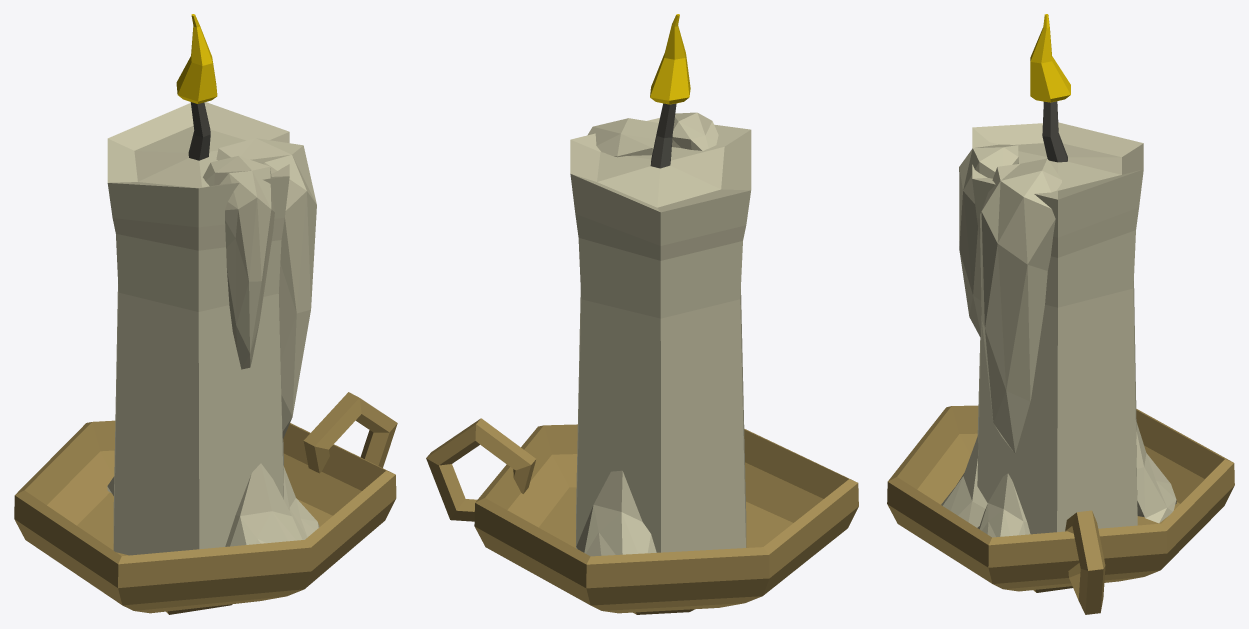
The model's file is candle_2_lit.fbx.
3 renders of one model, left to right at view 1: azimuth 30°, elevation 25°; view 2: azimuth 150°, elevation 25°; view 3: azimuth 270°, elevation 25°, orthographic. The views are drawn at different scales.
Parts seen in each view (by area): view 1: candle4; view 2: candle4; view 3: candle4.
Part boxes in pixels (left/top/right/bottom): candle4: left=14, top=14, right=397, bottom=614; candle4: left=426, top=14, right=858, bottom=614; candle4: left=887, top=14, right=1234, bottom=614.
Bounding box in the file's own units: 0.1862 × 0.2855 × 0.1643.
